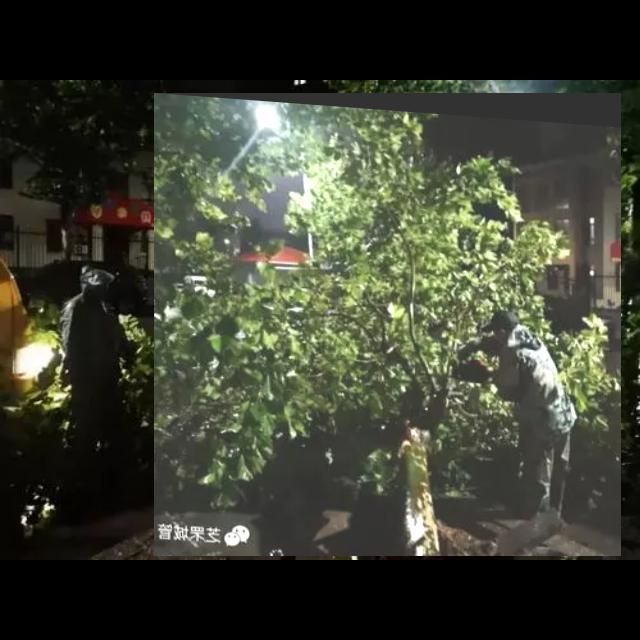fallen_tree: (154, 93, 622, 557)
